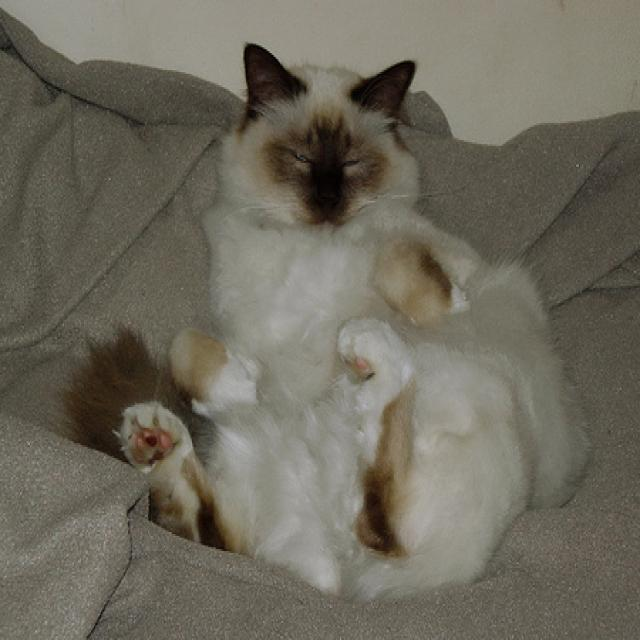Birman: (64, 36, 597, 606)
